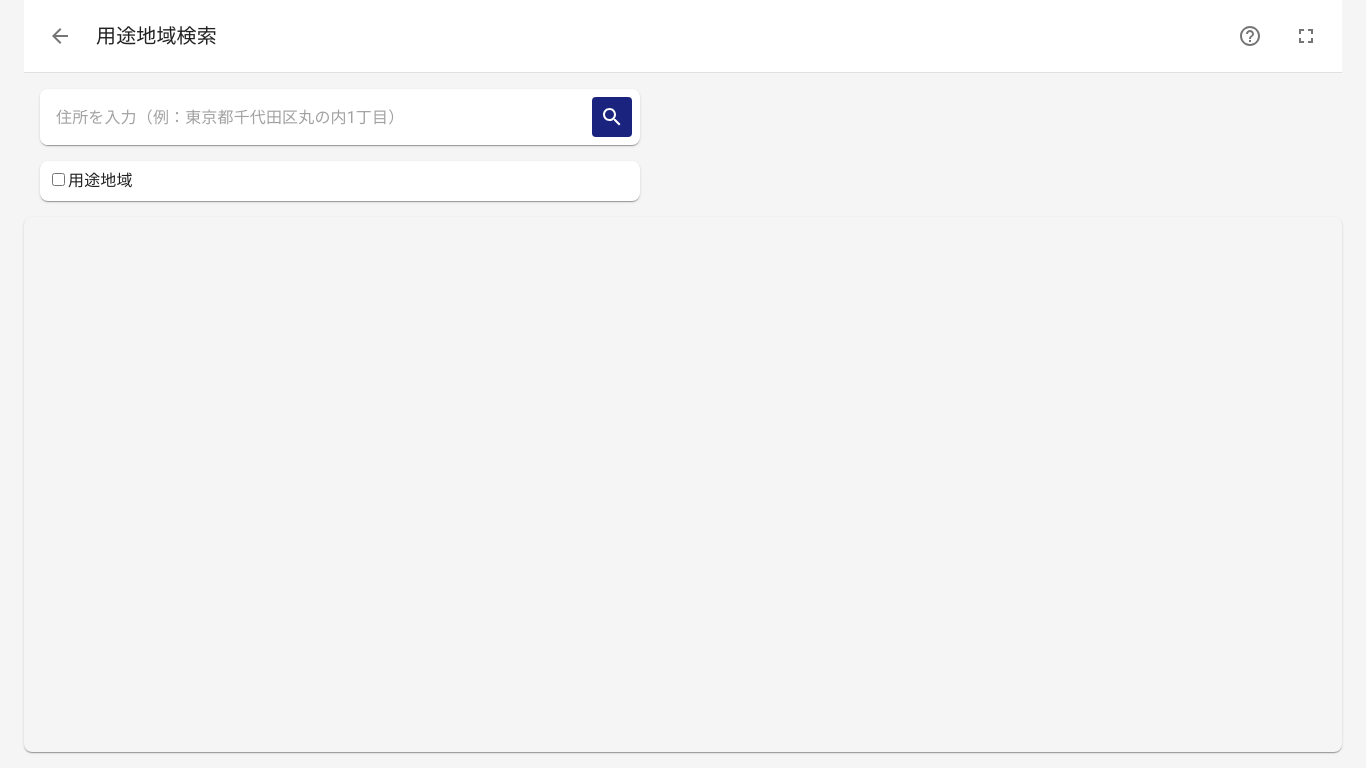
Test: ZoneSearch › ヘルプダイアログが正しく表示される
The width and height of the screenshot is (1366, 768).
Step 1. Click the button named "ヘルプを表示" → (1250, 36), box [1230,16,1270,56]
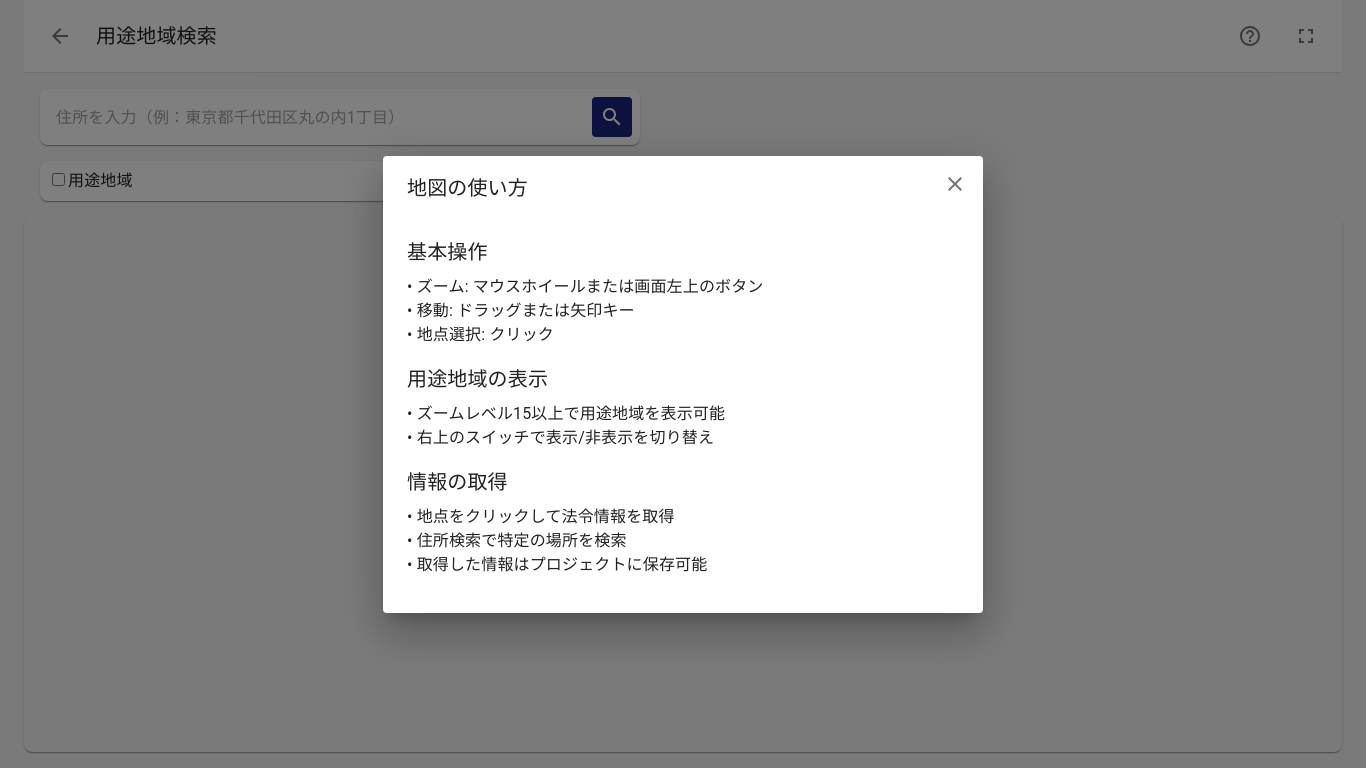
Expected: the heading "地図の使い方" is shown, [383,156,983,220]
Expected: the heading "基本操作" is shown, [407,240,488,264]
Expected: the heading "用途地域の表示" is shown, [407,366,548,390]
